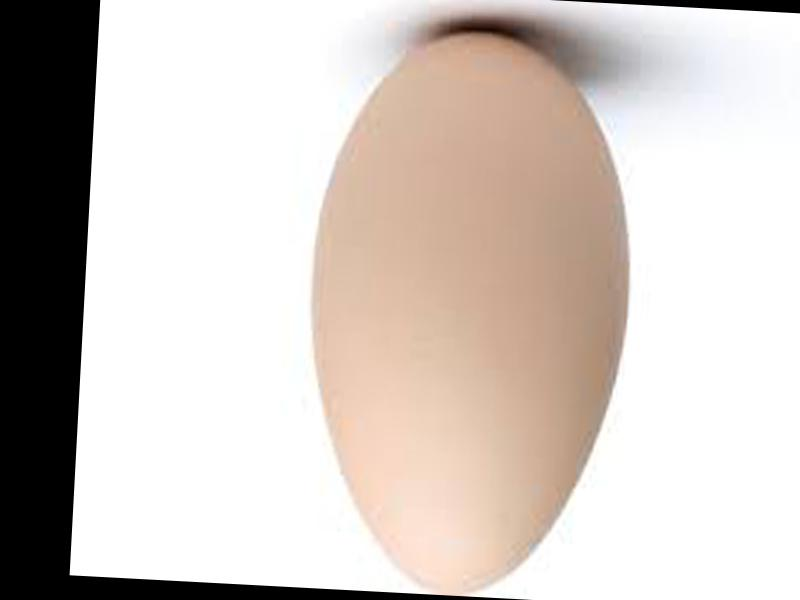Eggs: (299, 19, 641, 600)
